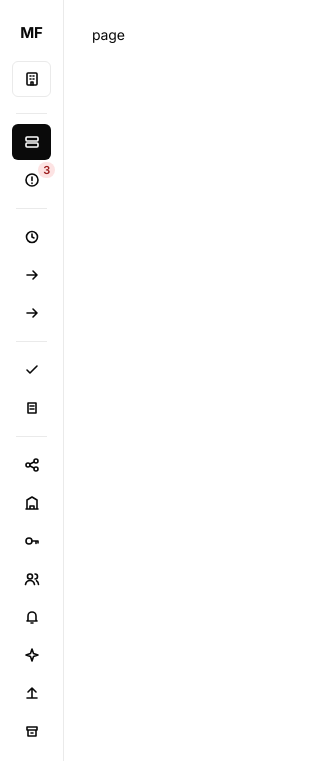
Test: AppShell › stores the chosen customer in the URL and keeps it in every link
The image size is (320, 761).
Step 1. Click the button named "Scope: All customers" → point(32, 78), box 12,60 -> 51,96
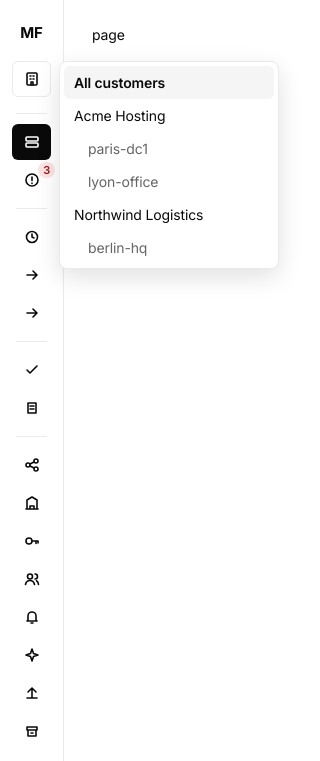
Now the options read "All customers", "Acme Hosting", "paris-dc1", "lyon-office", "Northwind Logistics", "berlin-hq", in this order
Step 2. Click the option "Acme Hosting" → point(120, 115), box 74,106 -> 165,124
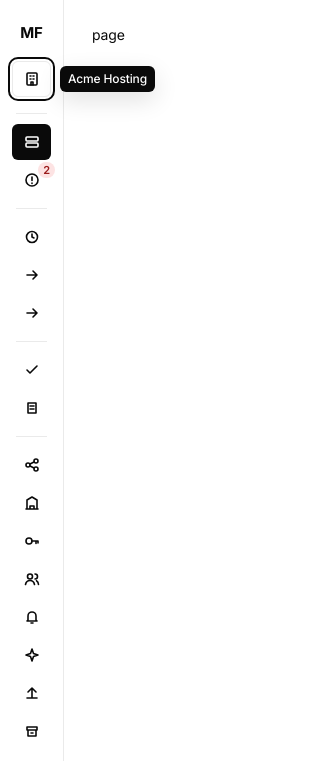
Now the list is gone
